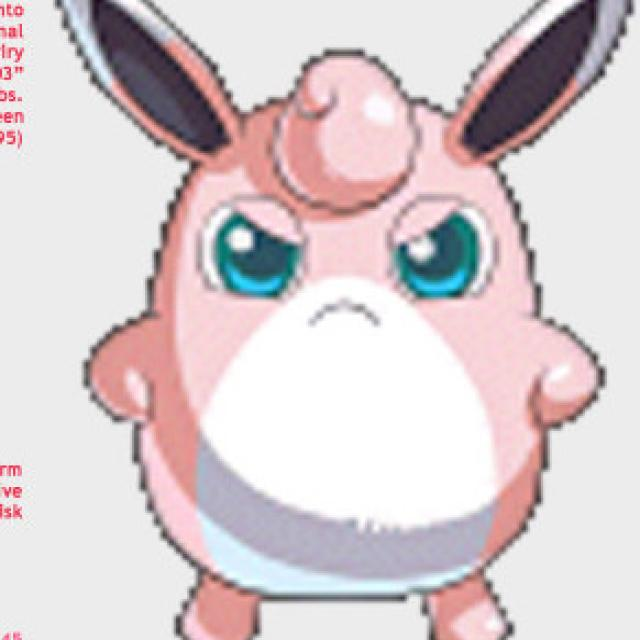Wigglytuff: (82, 40, 630, 640)
